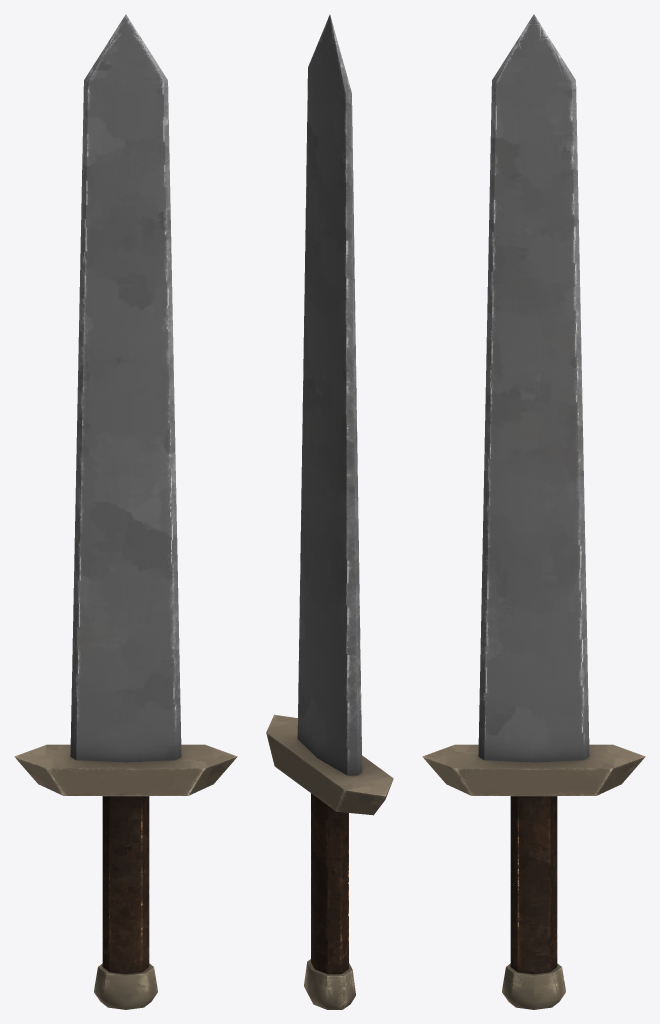
The model's file is Sword.fbx.
3 views of the same model, side by side, from view 1: azimuth 90°, elevation 25°; view 2: azimuth 210°, elevation 25°; view 3: azimuth 270°, elevation 25° (orthographic).
Visible parts, largest first — view 1: Sword; view 2: Sword; view 3: Sword.
Boxes of the visible parts, left/top/right/bottom form: Sword: left=14, top=14, right=237, bottom=1009; Sword: left=266, top=14, right=393, bottom=1009; Sword: left=422, top=14, right=645, bottom=1009.
Bounding box in the file's own units: 5.66 × 109 × 22.4.
